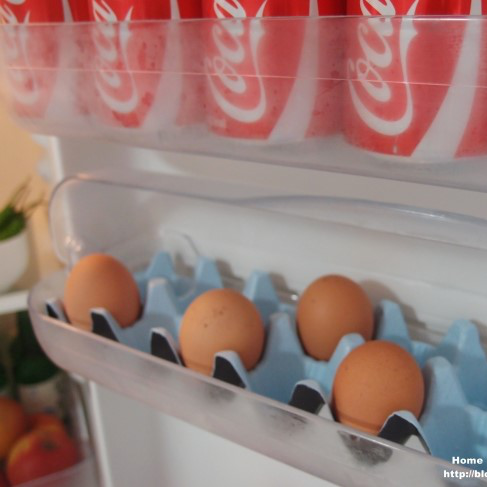egg: (56, 249, 434, 443)
